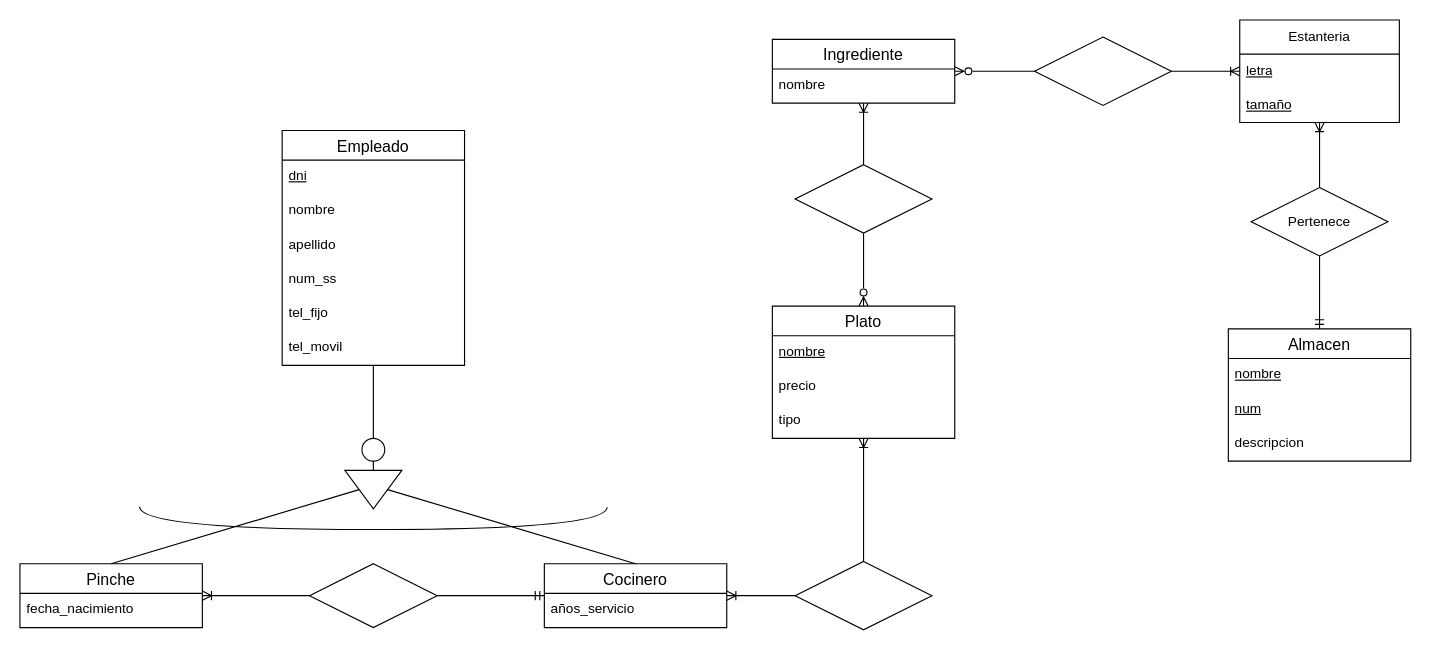
This 1431x651 diagram has some shape labels left out. Each missing label, with the centre of its shape:
"a Cargo" goes at [372,595].
"Guarda" goes at [1102,70].
"Prepara" goes at [863,595].
"Requiere" goes at [863,198].
